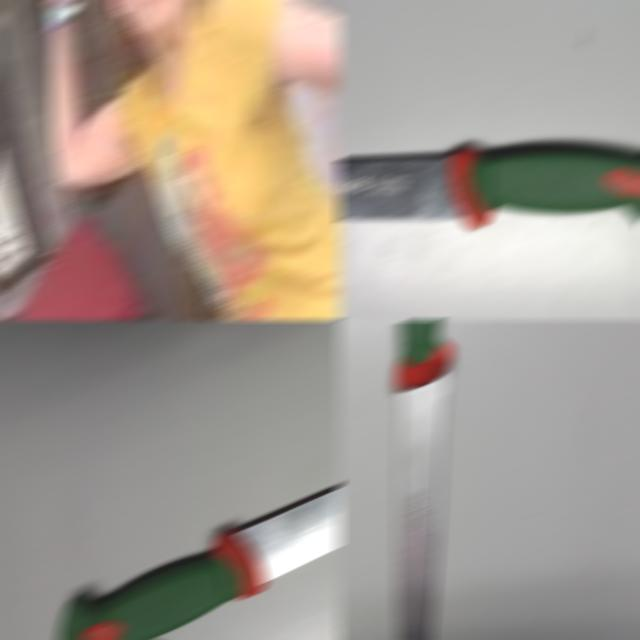Knife: (55, 485, 342, 639), (336, 143, 640, 226), (394, 321, 454, 639)
